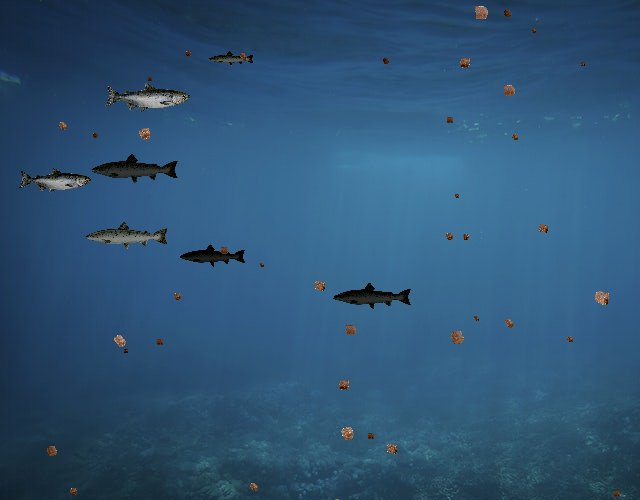Fish: (90, 152, 180, 185), (84, 220, 170, 251), (104, 82, 190, 113), (332, 281, 413, 311), (19, 168, 92, 194), (179, 244, 247, 268), (209, 51, 256, 68)
Pellet: (467, 0, 495, 27), (497, 78, 521, 102), (308, 275, 331, 298), (499, 313, 519, 333), (53, 117, 72, 136), (235, 49, 251, 65), (363, 429, 378, 443), (89, 129, 102, 142), (452, 190, 462, 200)
